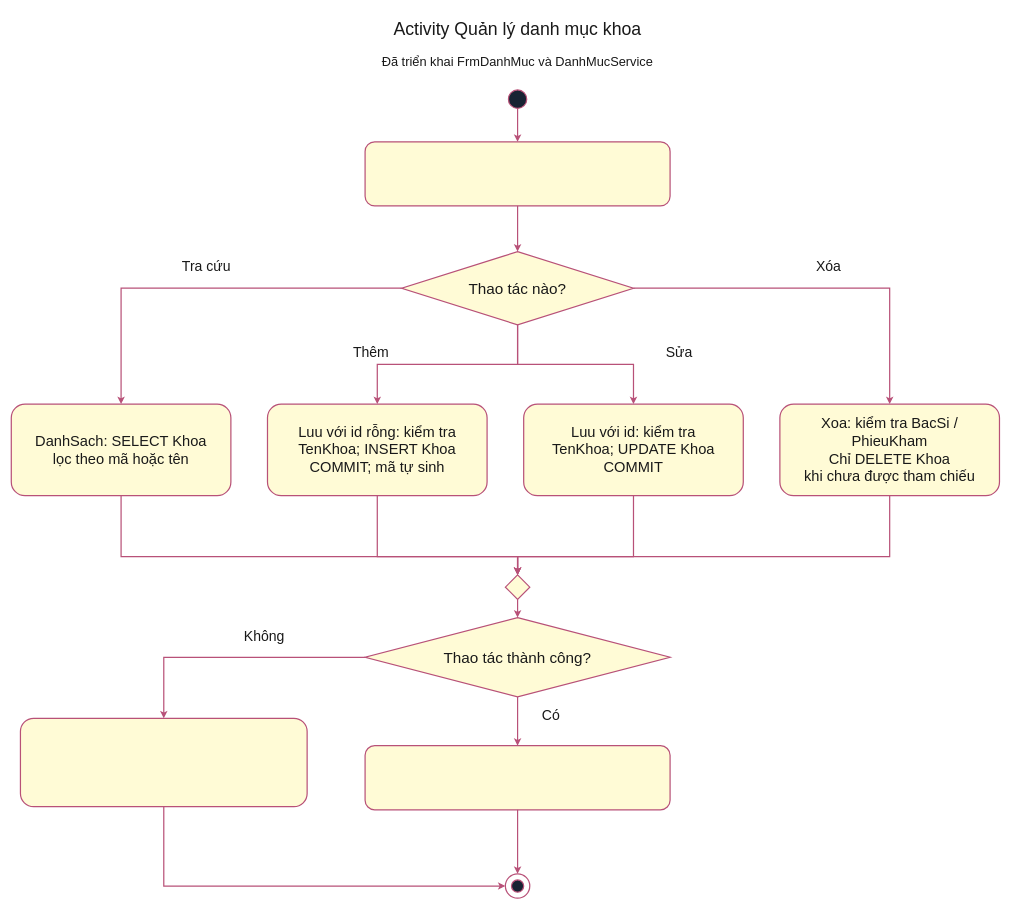
Image size: 1028x909. Some labels were removed from this diagram. Here are the shapes that lost their labels. From the top down, the box of each, then its label:
(364, 141, 670, 206): Chọn mã khi sửa hoặc xóa Nhập TenKhoa
(20, 717, 307, 807): Dữ liệu sai hoặc đang tham chiếu ROLLBACK khi ghi và báo lỗi
(364, 745, 670, 810): Tải lại danh sách Khoa
